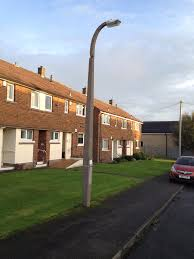light_pole: (80, 34, 100, 210)
